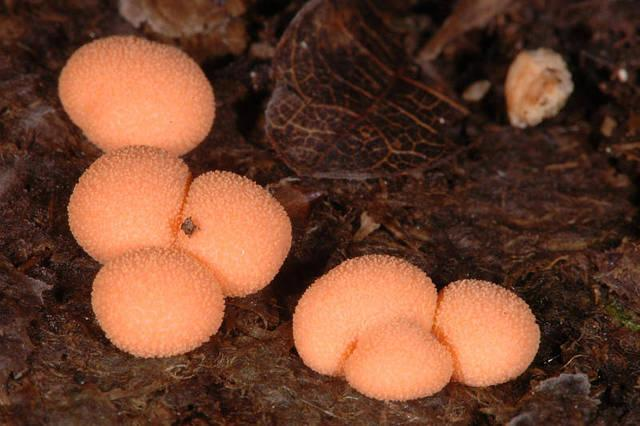Non-edible Mushroom: (56, 33, 293, 358), (262, 0, 470, 182), (291, 251, 541, 401), (56, 33, 216, 157), (291, 252, 438, 377), (89, 245, 226, 359), (173, 168, 293, 297), (66, 144, 192, 263), (434, 277, 541, 388), (342, 319, 455, 401), (503, 45, 574, 129)
